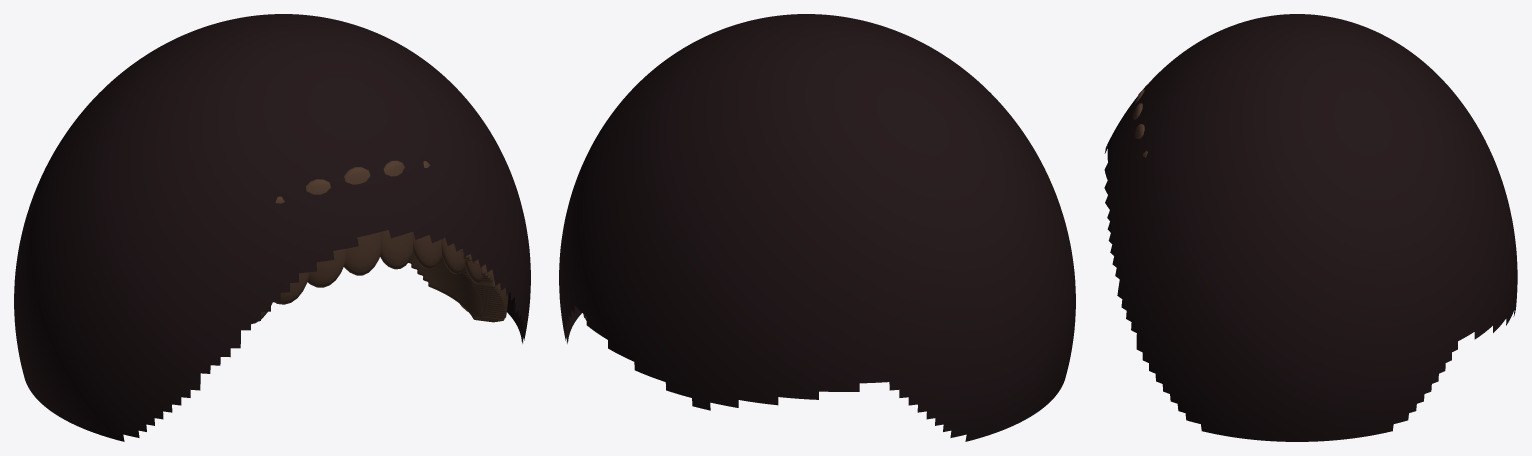
The model's file is hair-fringe.glb.
3 views of the same model, side by side, from view 1: azimuth 30°, elevation 25°; view 2: azimuth 150°, elevation 25°; view 3: azimuth 270°, elevation 25° (orthographic). The views are drawn at different scales.
Visible parts, largest first — view 1: Hair ink, Hair crown, Hair fringe 4, Hair fringe 5, Hair fringe 3, Hair fringe 6, Hair fringe 7, Hair fringe 2; view 2: Hair ink; view 3: Hair ink.
Part boxes in pixels (bbox=[...]): Hair ink: bbox=[14, 14, 530, 441]; Hair crown: bbox=[408, 239, 508, 322]; Hair fringe 4: bbox=[344, 167, 380, 275]; Hair fringe 5: bbox=[380, 160, 413, 269]; Hair fringe 3: bbox=[305, 179, 346, 287]; Hair fringe 6: bbox=[412, 161, 442, 268]; Hair fringe 7: bbox=[441, 238, 465, 273]; Hair fringe 2: bbox=[275, 196, 310, 304]; Hair ink: bbox=[559, 14, 1075, 441]; Hair ink: bbox=[1104, 14, 1517, 441].
Size of the model in its own units: 0.5305 by 0.3641 by 0.4375.
